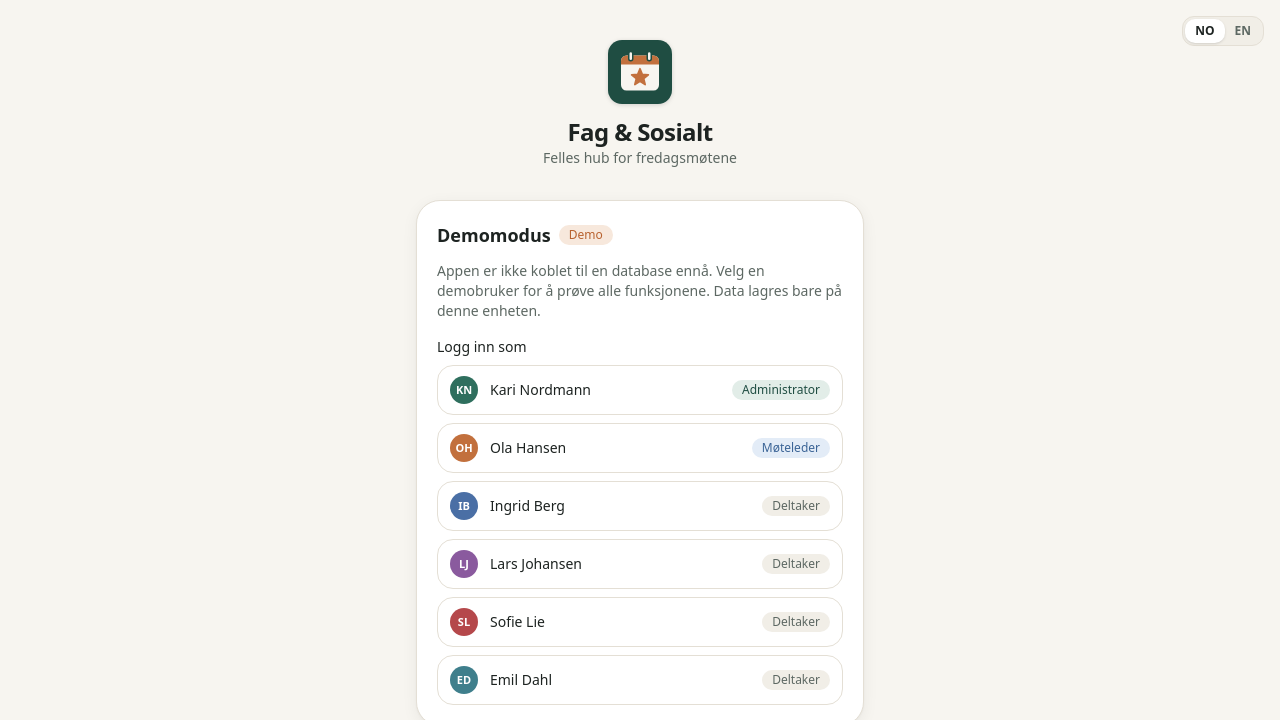
Test: Fag & Sosialt app (demo backend) › does not offer rating for future meetings
This screenshot has width=1280, height=720.
Click the button "IB Ingrid Berg Deltaker".
click(527, 506)  # box [437, 481, 843, 531]
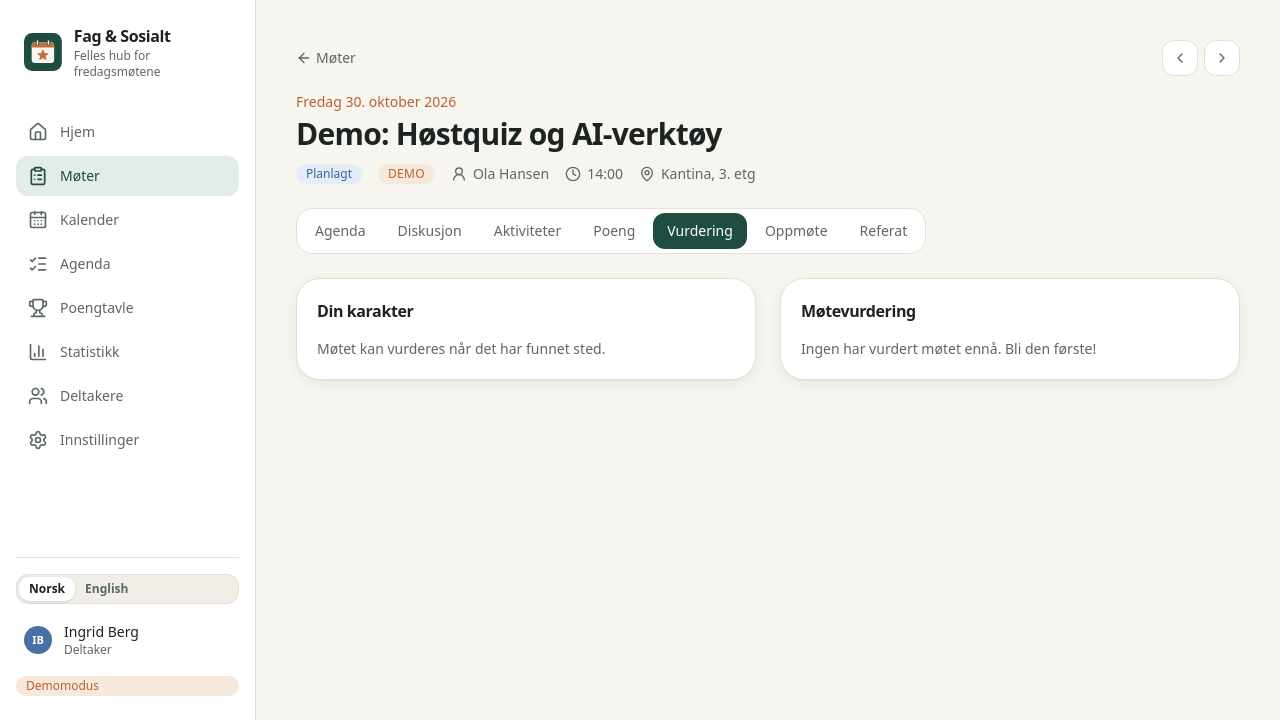
Result: the text "Møtet kan vurderes når det har funnet sted." is shown at [317, 339, 605, 358]
